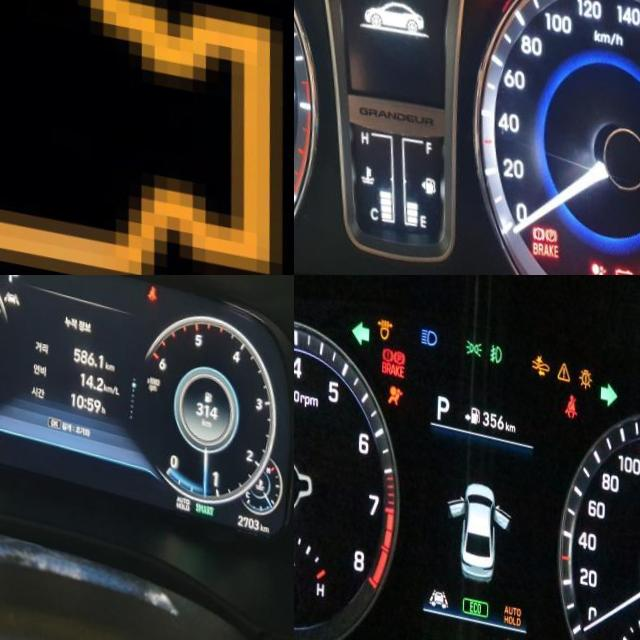Central Warning lamp: (558, 341, 572, 364)
FrontFogLight: (490, 327, 504, 349)
LaneCenteringOff: (430, 573, 453, 597), (4, 277, 21, 293)
SideLamp: (466, 322, 484, 343)
